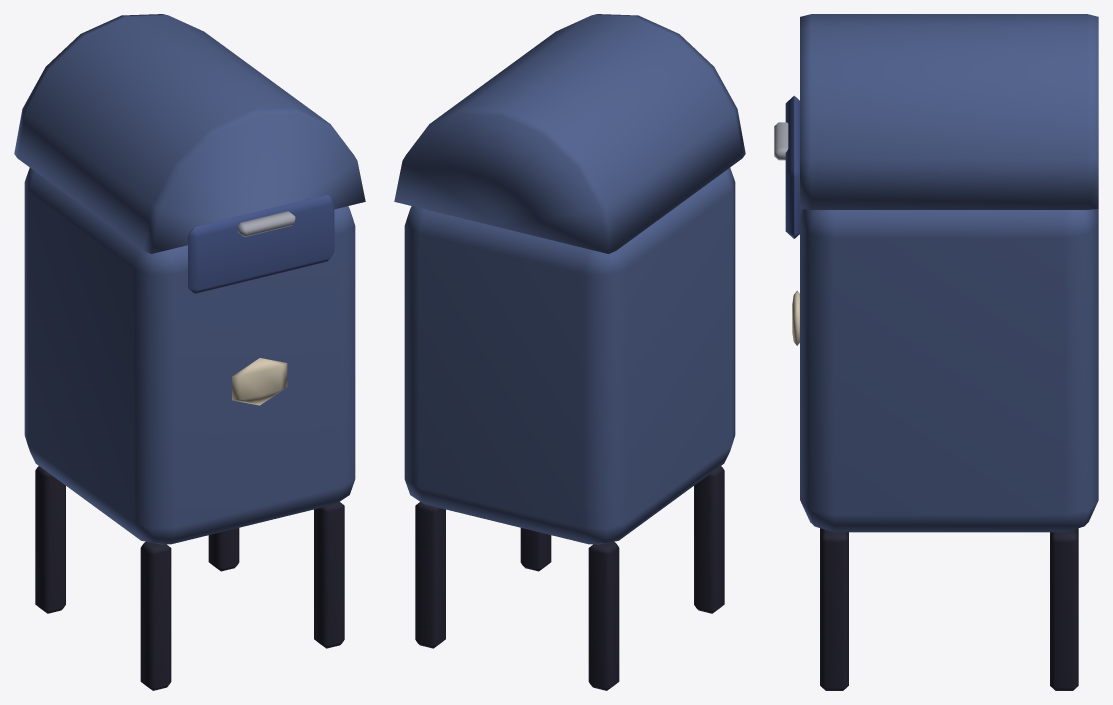
File: mailbox.glb
3 views of the same model, side by side, from view 1: azimuth 30°, elevation 25°; view 2: azimuth 150°, elevation 25°; view 3: azimuth 270°, elevation 25° (orthographic). The views are drawn at different scales.
Parts seen in each view (by area): view 1: mailbox, flap; view 2: mailbox; view 3: mailbox, flap.
Part boxes in pixels (left/top/right/bottom): mailbox: left=14, top=14, right=365, bottom=690; flap: left=188, top=194, right=334, bottom=293; mailbox: left=394, top=14, right=745, bottom=690; mailbox: left=792, top=14, right=1098, bottom=690; flap: left=774, top=95, right=802, bottom=238.
Bounding box in the file's own units: 0.48 × 1.18 × 0.565.
